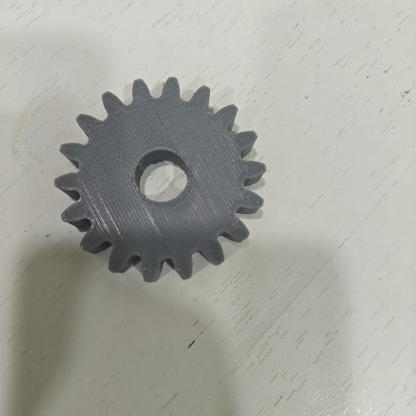gear: (37, 69, 286, 292)
